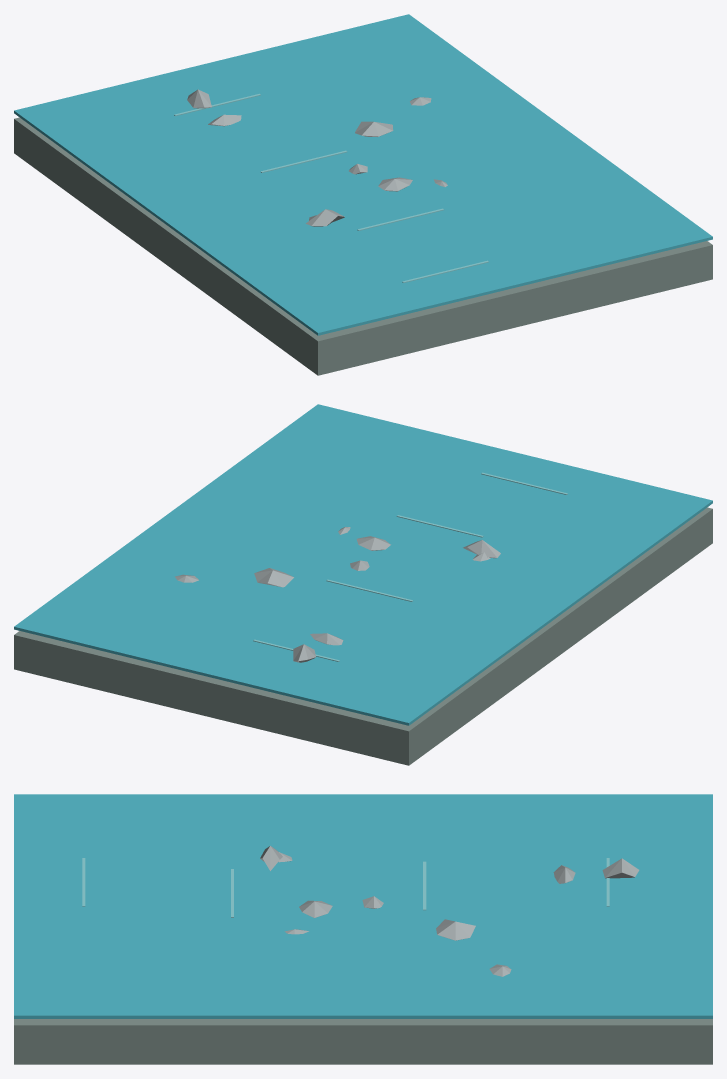
Rendered from river_shallow_rocks.glb.
3 renders of one model, top to bottom at view 1: azimuth 30°, elevation 25°; view 2: azimuth 150°, elevation 25°; view 3: azimuth 270°, elevation 25°, orthographic. The views are drawn at different scales.
Parts seen in each view (by area): view 1: river_shallow_rocks; view 2: river_shallow_rocks; view 3: river_shallow_rocks.
Boxes of the visible parts, x1,y1,x2,y2 form: river_shallow_rocks: (14, 14, 712, 375); river_shallow_rocks: (14, 404, 712, 765); river_shallow_rocks: (14, 794, 712, 1064).
Bounding box in the file's own units: 6 × 0.8346 × 8.
